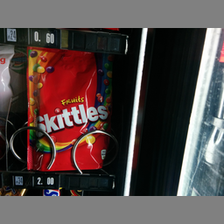chocolate: (25, 46, 111, 170)
